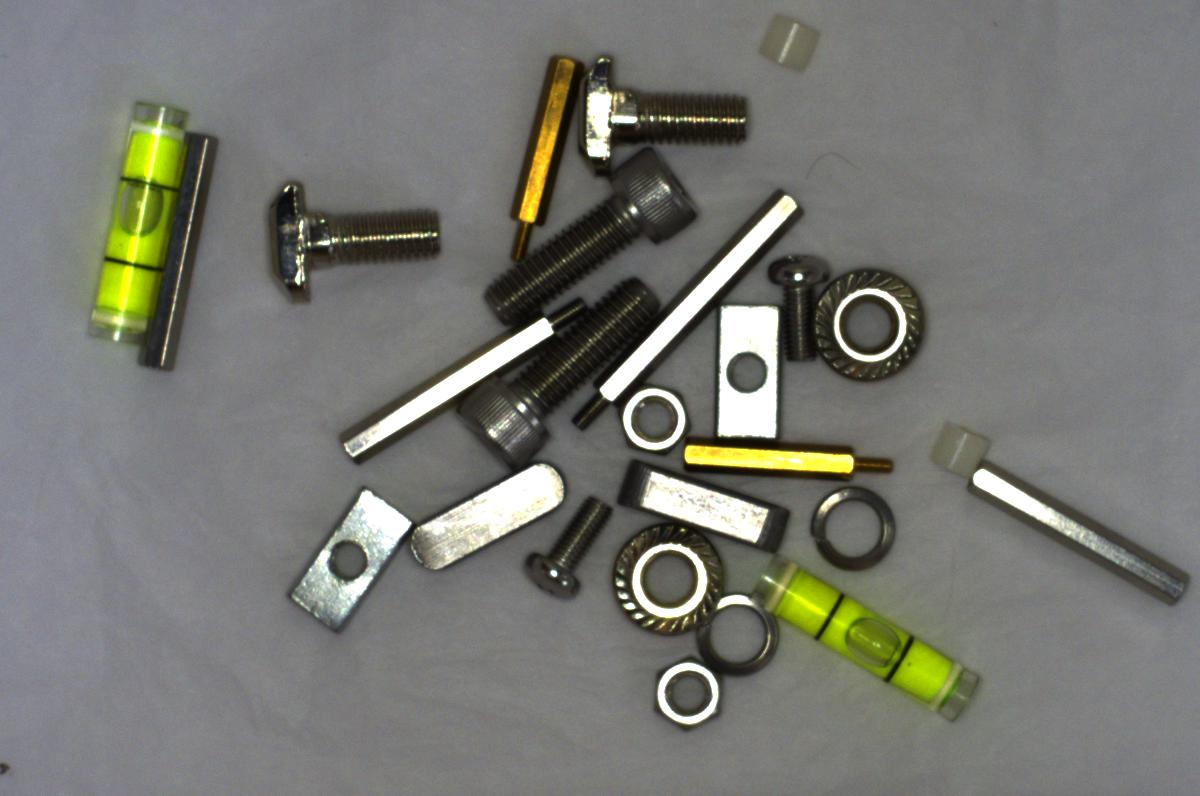Double hexagonal column: (965, 462, 1189, 613), (143, 124, 216, 371)
Flange nut: (597, 515, 730, 639), (806, 259, 933, 387)
Hexagon nut: (648, 651, 723, 731), (620, 382, 689, 456)
Hexagon pillar: (491, 51, 575, 271), (670, 432, 906, 489)
Hexagon screw: (443, 280, 676, 469), (485, 142, 697, 324)
Hexagonal steel column: (570, 194, 819, 424), (324, 282, 594, 463)
Horizontal bubble: (755, 551, 997, 726), (83, 99, 194, 344)
Keybar: (411, 454, 571, 581), (611, 454, 801, 554)
Plastic cushion pillar: (753, 10, 825, 77), (928, 413, 996, 481)
Rectangular nut: (280, 481, 415, 636), (715, 303, 789, 442)
Round head screw: (519, 482, 614, 601), (766, 245, 823, 371)
Spring washer: (802, 483, 903, 572), (696, 590, 785, 678)
T-shaped screw: (264, 173, 448, 304), (576, 46, 758, 173)
